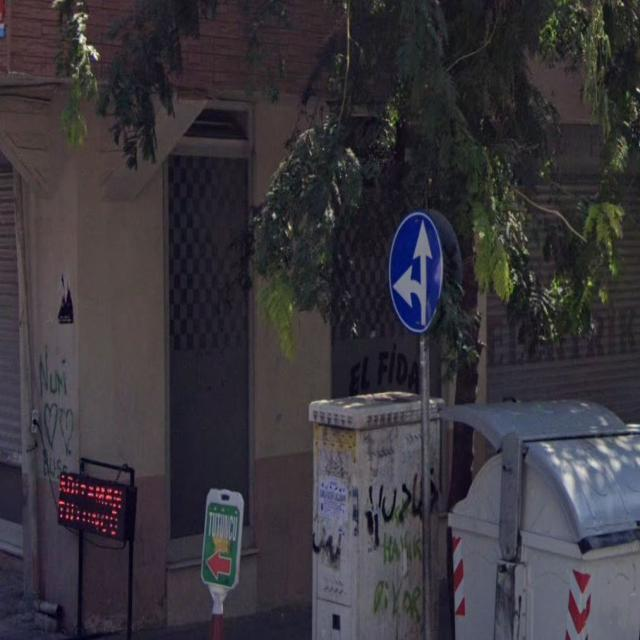ilerisol: (390, 214, 442, 332)
